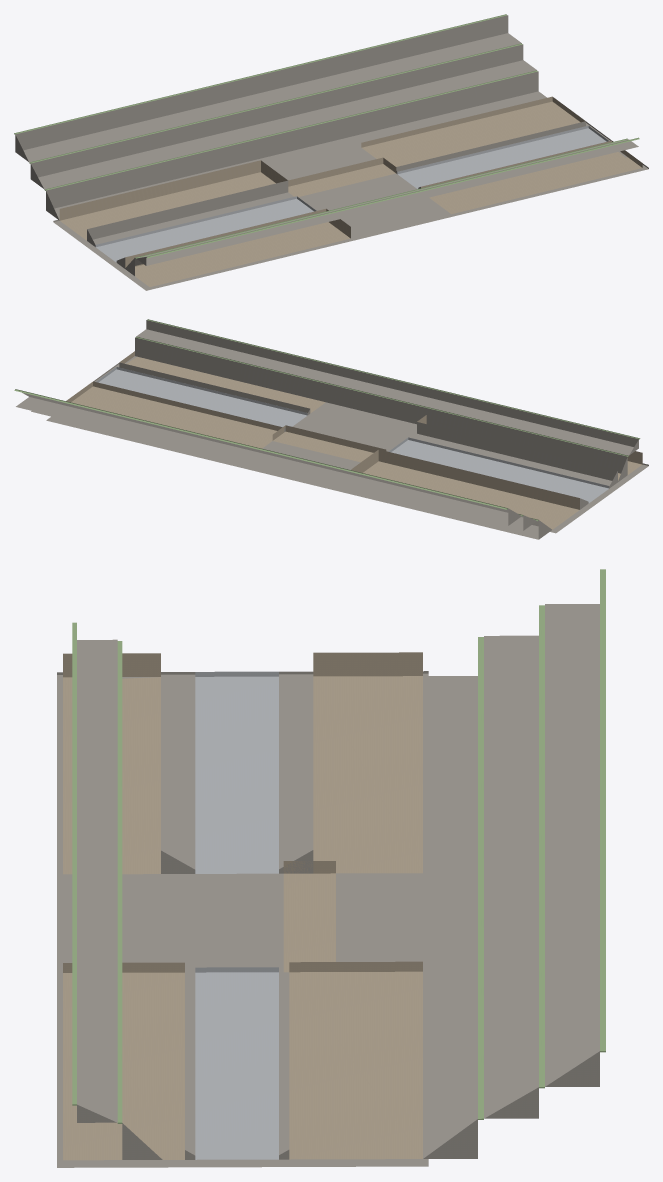
Rendered from madao-z1-terrain.glb.
3 views of the same model, one above another, from view 1: azimuth 30°, elevation 25°; view 2: azimuth 150°, elevation 25°; view 3: azimuth 270°, elevation 25° (orthographic). The views are drawn at different scales.
Visible parts, largest first — view 1: rock_terrain, earth_terrain, concreteDark_terrain, grass_terrain; view 2: rock_terrain, earth_terrain, concreteDark_terrain, grass_terrain; view 3: rock_terrain, earth_terrain, concreteDark_terrain, grass_terrain.
Boxes of the visible parts, box(x1,y1,x2,y2) form: rock_terrain: box(15, 15, 648, 290); earth_terrain: box(59, 96, 642, 286); concreteDark_terrain: box(95, 125, 608, 262); grass_terrain: box(14, 14, 639, 258); rock_terrain: box(16, 320, 648, 539); earth_terrain: box(66, 351, 642, 529); concreteDark_terrain: box(96, 367, 609, 503); grass_terrain: box(14, 319, 640, 521); rock_terrain: box(57, 604, 599, 1167); earth_terrain: box(63, 652, 422, 1160); concreteDark_terrain: box(195, 671, 278, 1159); grass_terrain: box(72, 569, 605, 1123).
Size of the model in its own units: 2000 by 216 by 945.
Materials: 4 (4 with a texture image).
